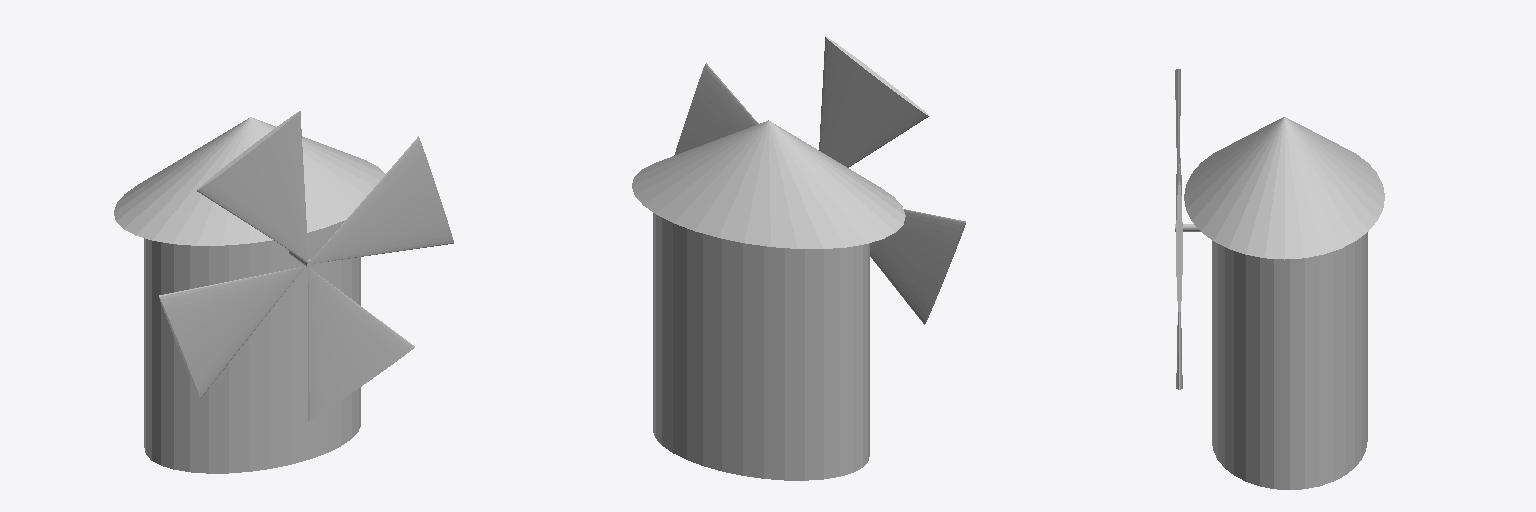
File: molino.obj
3 renders of one model, left to right at view 1: azimuth 30°, elevation 25°; view 2: azimuth 150°, elevation 25°; view 3: azimuth 270°, elevation 25°, orthographic.
Visible parts, largest first — view 1: Molino_hecho_by_nosotros_Cylinder.001; view 2: Molino_hecho_by_nosotros_Cylinder.001; view 3: Molino_hecho_by_nosotros_Cylinder.001.
Part boxes in pixels (x1,y1,x2,y2): Molino_hecho_by_nosotros_Cylinder.001: (114,111,453,473); Molino_hecho_by_nosotros_Cylinder.001: (632,36,965,480); Molino_hecho_by_nosotros_Cylinder.001: (1175,69,1384,489).
Bounding box in the file's own units: 7.66 × 9.11 × 4.72.